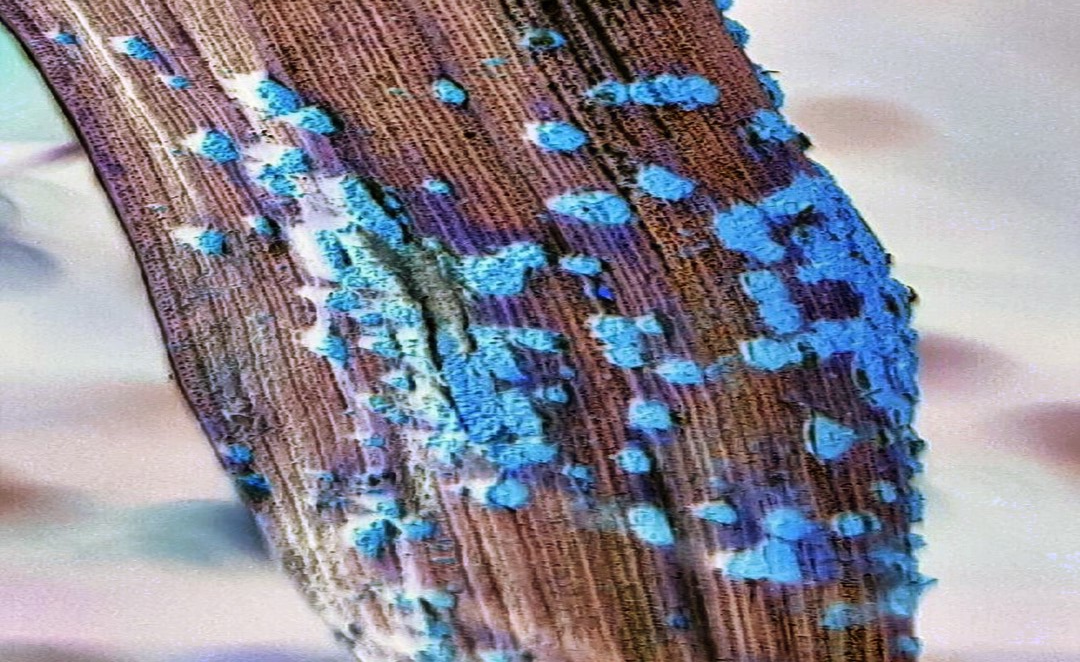Leaf Rust: (170, 46, 993, 623)
